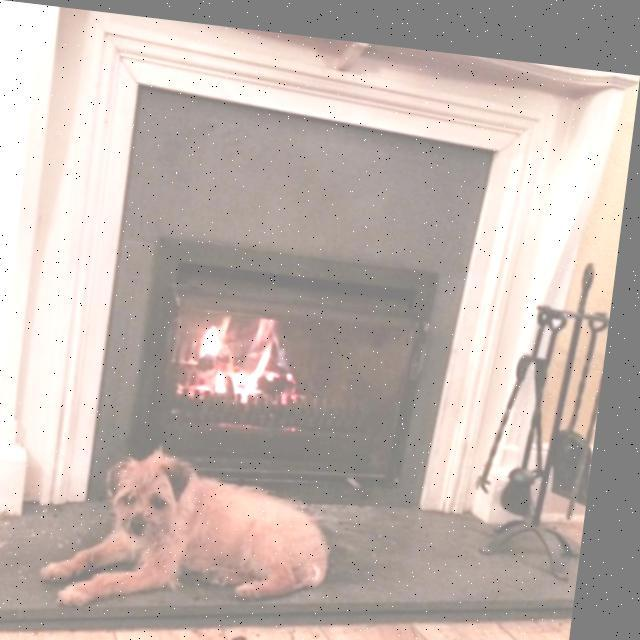Fire: (195, 306, 312, 396)
